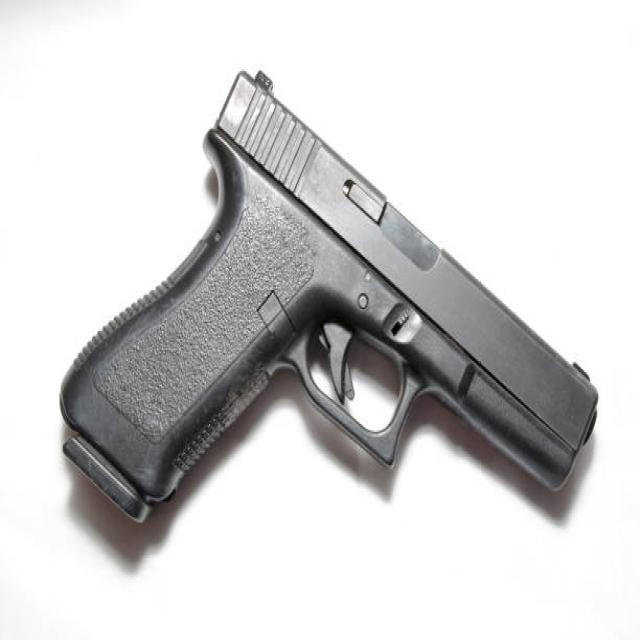pistol: (55, 48, 610, 531)
